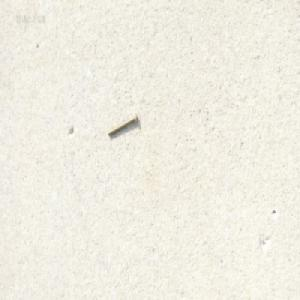Bolt: (106, 112, 137, 137)
